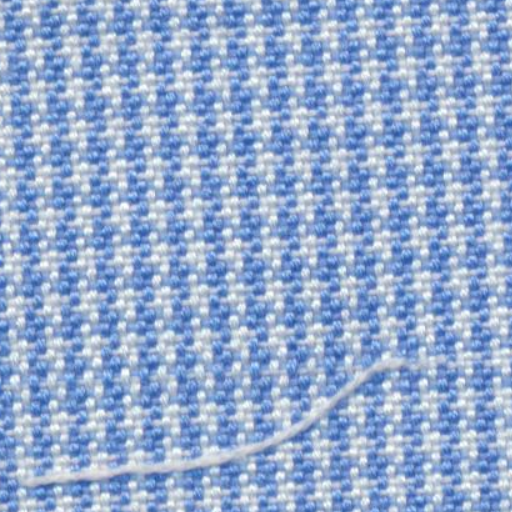DuanSha: (28, 346, 424, 490)
